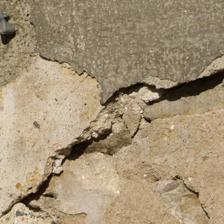Crack: (0, 59, 106, 164), (6, 54, 97, 167), (28, 78, 68, 124)
